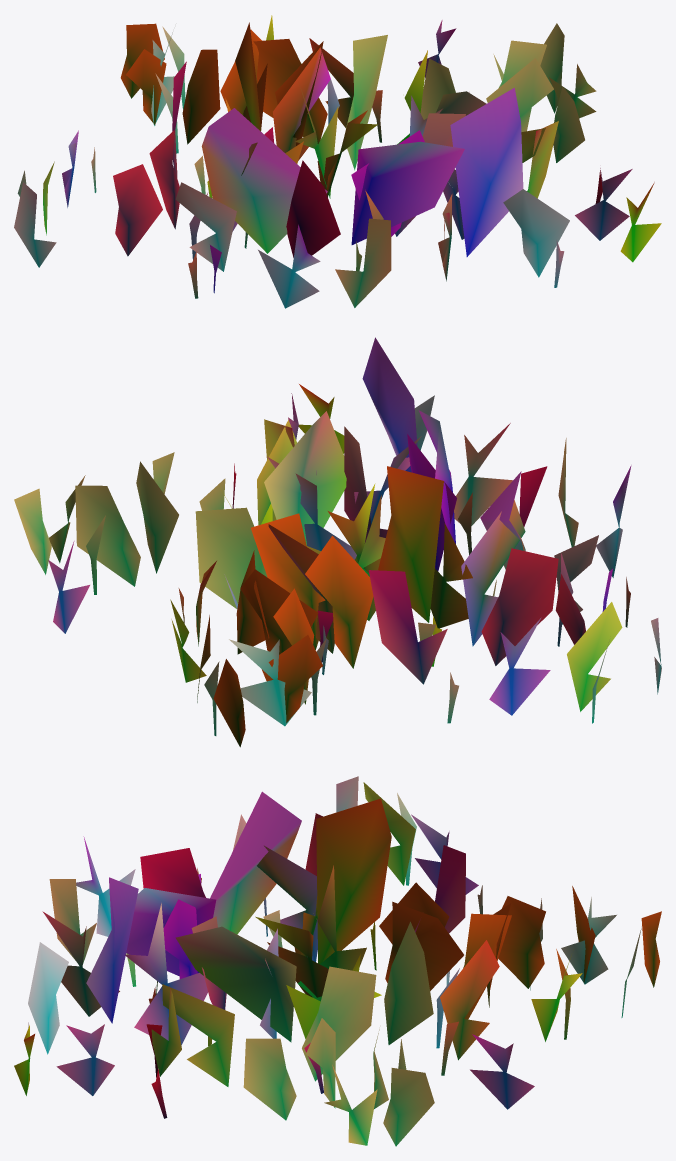
Rendered from Kikuyu_Grass_wiljearqx_High_wiljearqx_VarH_LOD2.fbx.
3 renders of one model, top to bottom at view 1: azimuth 30°, elevation 25°; view 2: azimuth 150°, elevation 25°; view 3: azimuth 270°, elevation 25°, orthographic. The views are drawn at different scales.
Parts seen in each view (by area): view 1: _lzbx_VarH_LOD5; view 2: _lzbx_VarH_LOD5; view 3: _lzbx_VarH_LOD5.
Part boxes in pixels (x1,y1,x2,y2): _lzbx_VarH_LOD5: [14, 15, 661, 308]; _lzbx_VarH_LOD5: [14, 337, 661, 747]; _lzbx_VarH_LOD5: [14, 776, 661, 1146].
Size of the model in its own units: 91.41 by 27.47 by 82.89.
